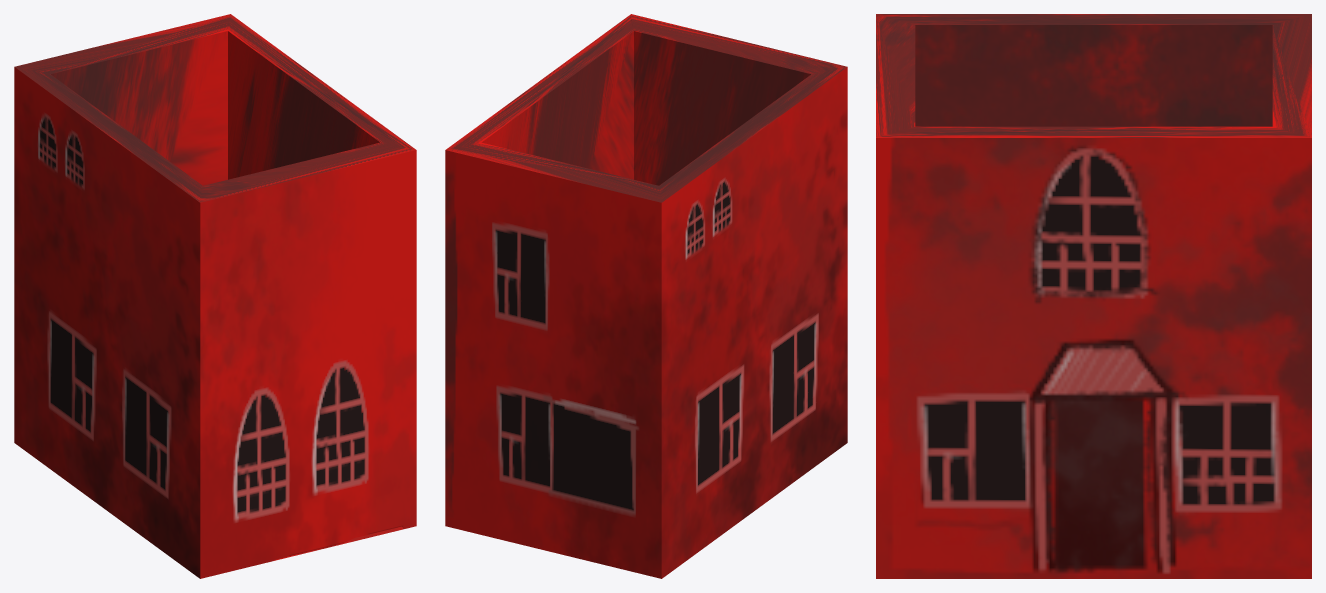
File: HousewMat.fbx
The picture shows the model from 3 angles, left to right: view 1: azimuth 30°, elevation 25°; view 2: azimuth 150°, elevation 25°; view 3: azimuth 270°, elevation 25°; orthographic projection. The views are drawn at different scales.
Visible parts, largest first — view 1: Cube.010; view 2: Cube.010; view 3: Cube.010.
Part boxes in pixels (x1=…): Cube.010: x1=14, y1=14, x2=416, y2=578; Cube.010: x1=445, y1=14, x2=847, y2=578; Cube.010: x1=876, y1=14, x2=1311, y2=578.
Size of the model in its own units: 23.18 by 38.5 by 34.48.
